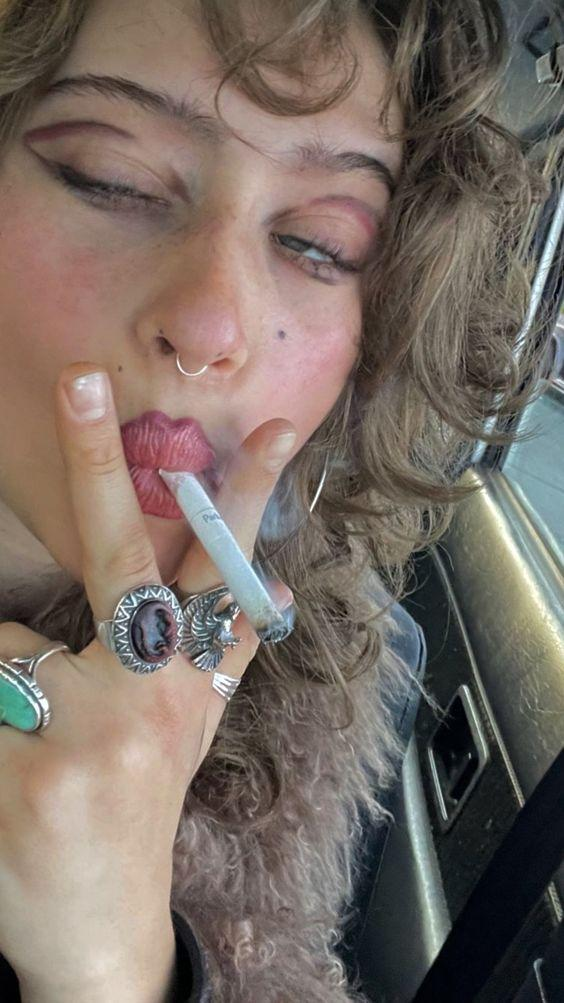cigarette: (157, 468, 290, 646)
